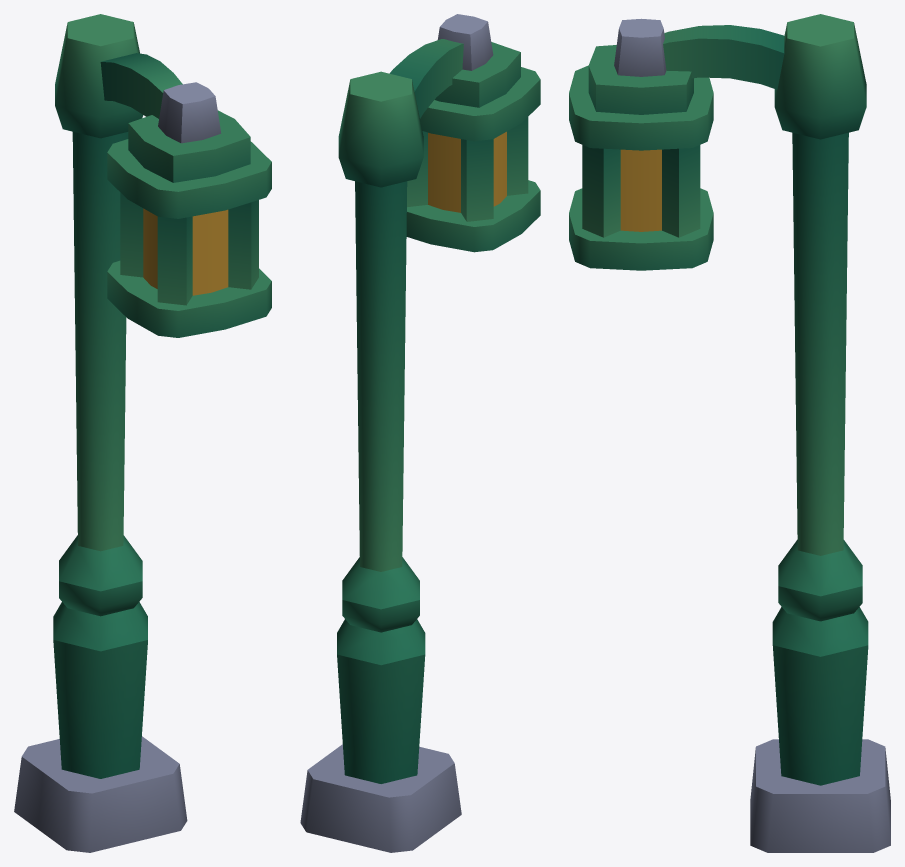
The model's file is lamp_ornate.glb.
3 views of the same model, side by side, from view 1: azimuth 30°, elevation 25°; view 2: azimuth 150°, elevation 25°; view 3: azimuth 270°, elevation 25° (orthographic). The views are drawn at different scales.
Visible parts, largest first — view 1: lightpost-single; view 2: lightpost-single; view 3: lightpost-single.
Boxes of the visible parts, box(x1,y1,x2,y2) form: lightpost-single: box(14, 14, 271, 852); lightpost-single: box(300, 14, 540, 852); lightpost-single: box(569, 14, 890, 852).
Size of the model in its own units: 0.2088 by 1.27 by 0.4649.
Materials: 1 (1 with a texture image).
